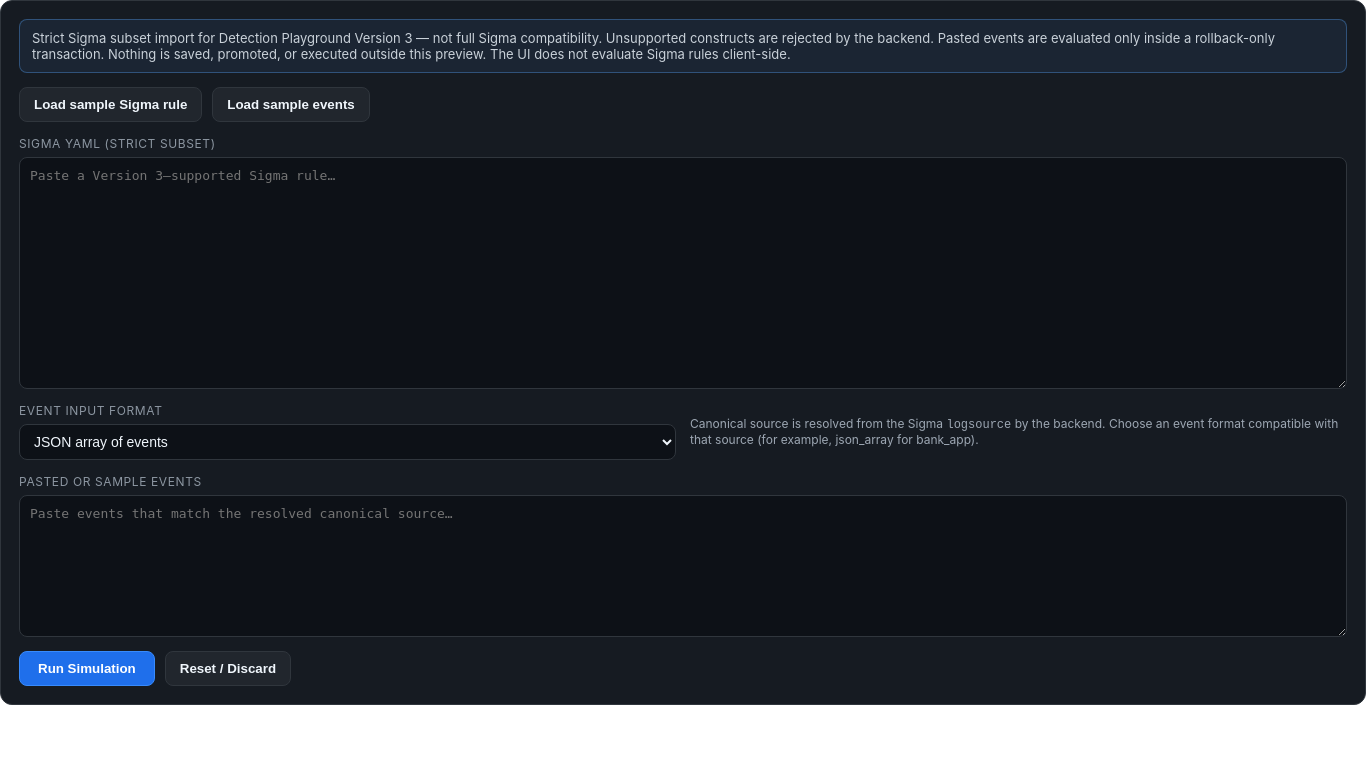
DetectionSimulatorSigmaImport › Reset / Discard clears the form fields
The width and height of the screenshot is (1366, 768).
Click the button "Load sample Sigma rule": (111, 104) [19,87,202,122]
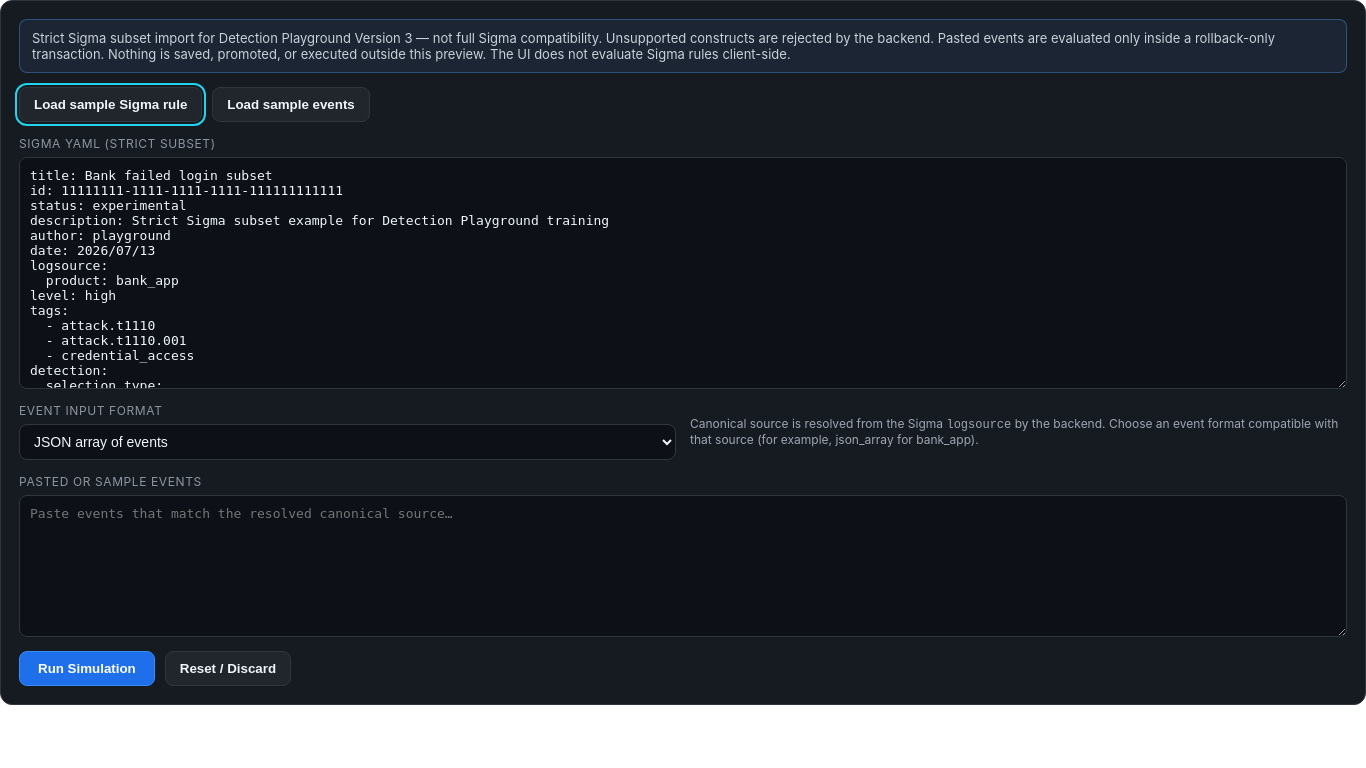
Click the button "Reset / Discard": (228, 668) [165,651,291,686]
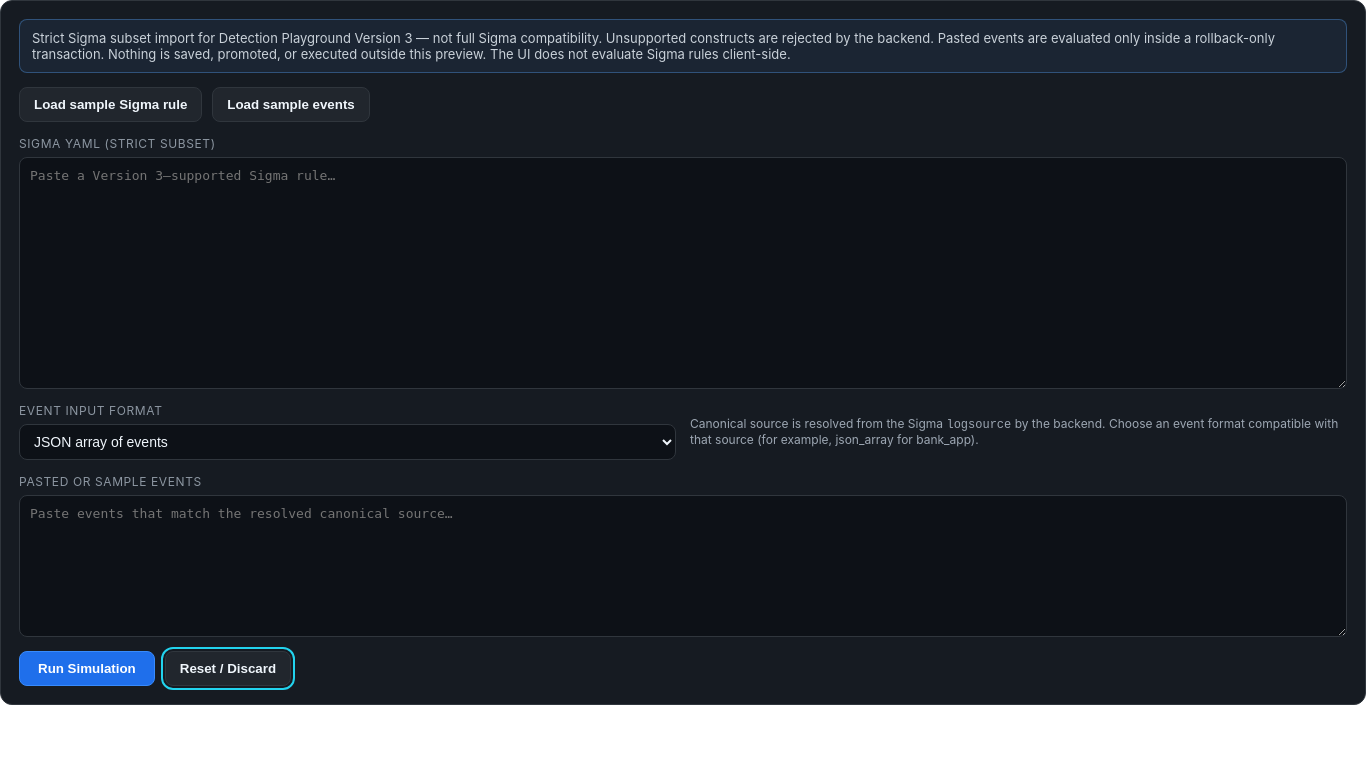
Expected: the text box named "Sigma event input" is empty, [19,495,1347,637]
Expected: the text box named "Sigma YAML input" is empty, [19,157,1347,389]
